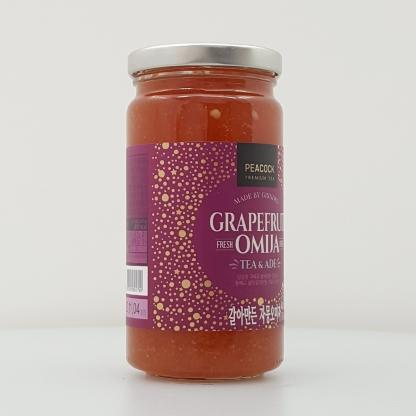---------------400G: (125, 42, 284, 381)
